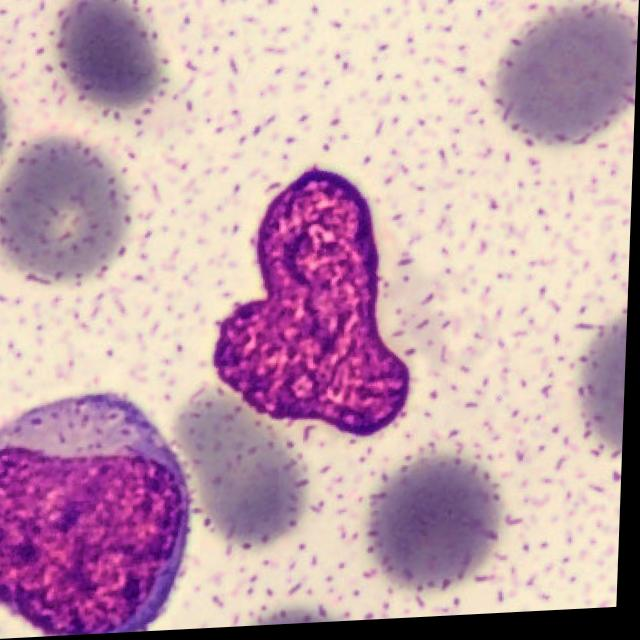Restos celulares: (214, 174, 413, 441)
